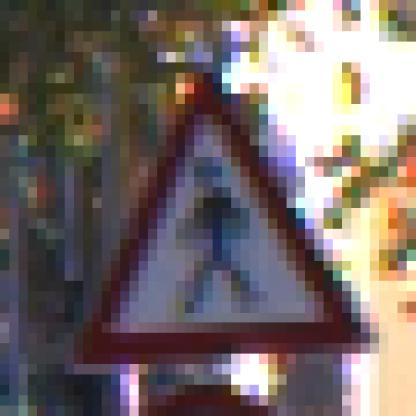crosswalk: (72, 61, 378, 380)
